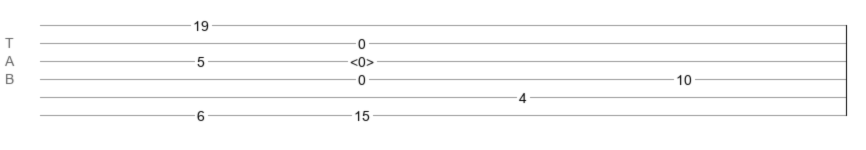0: (358, 72, 366, 82), (358, 36, 366, 46)
10: (676, 72, 692, 82)
15: (354, 108, 370, 118)
19: (193, 18, 209, 28)
4: (519, 90, 527, 100)
5: (197, 54, 205, 64)
6: (197, 108, 205, 118)
harmonic: (350, 54, 374, 64)
